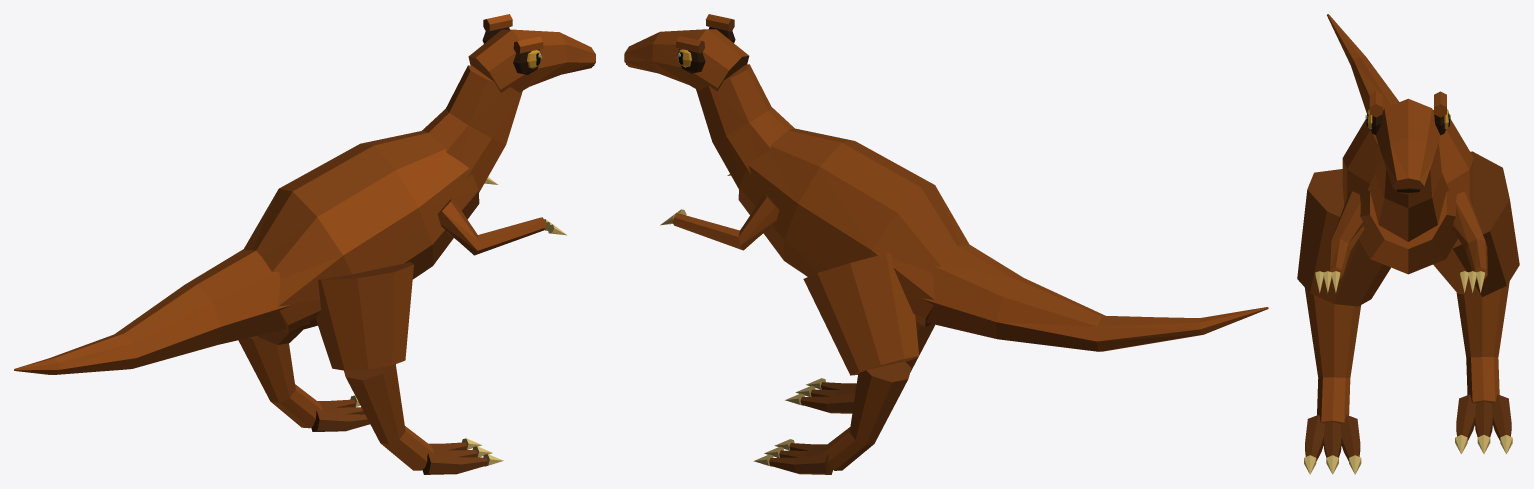
The model's file is SM_gallimimus.fbx.
3 renders of one model, left to right at view 1: azimuth 30°, elevation 25°; view 2: azimuth 150°, elevation 25°; view 3: azimuth 270°, elevation 25°, orthographic. The views are drawn at different scales.
Parts seen in each view (by area): view 1: SM_gallimimus • FBX; view 2: SM_gallimimus • FBX; view 3: SM_gallimimus • FBX.
Boxes of the visible parts, x1=… form: SM_gallimimus • FBX: x1=14, y1=14, x2=595, y2=474; SM_gallimimus • FBX: x1=624, y1=14, x2=1268, y2=474; SM_gallimimus • FBX: x1=1297, y1=14, x2=1519, y2=474.
Size of the model in its own units: 930 by 277 by 562.
